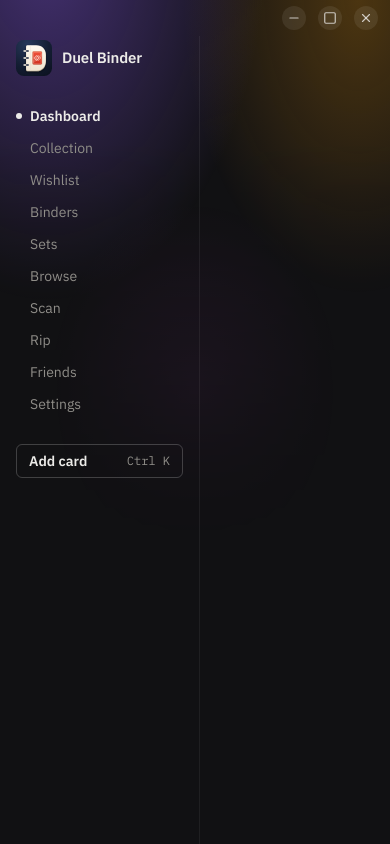
Test: AppShell › Ctrl+K and the Add card button open the add flow
The width and height of the screenshot is (390, 844).
Expected: the navigation bar named "Main" is shown, [16,100,183,420]
Press k
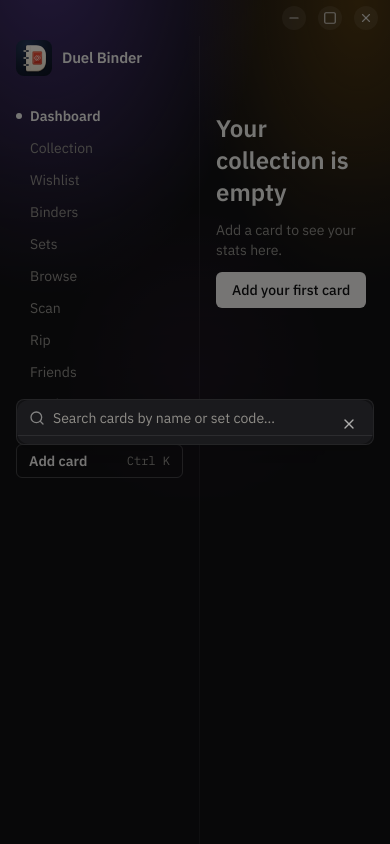
Now the dropdown with placeholder "Search cards by name or set code…" is shown, box [53,400,361,438]
Press Escape
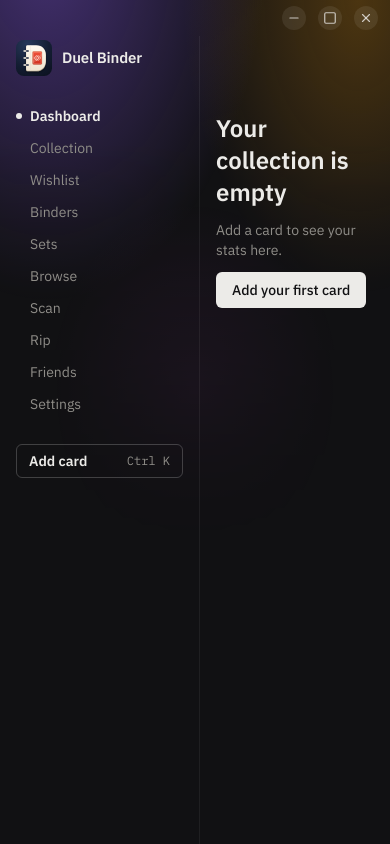
Now the dialog is gone
Click the button "Add card Ctrl K" at (100, 461), box [16,444,183,478]
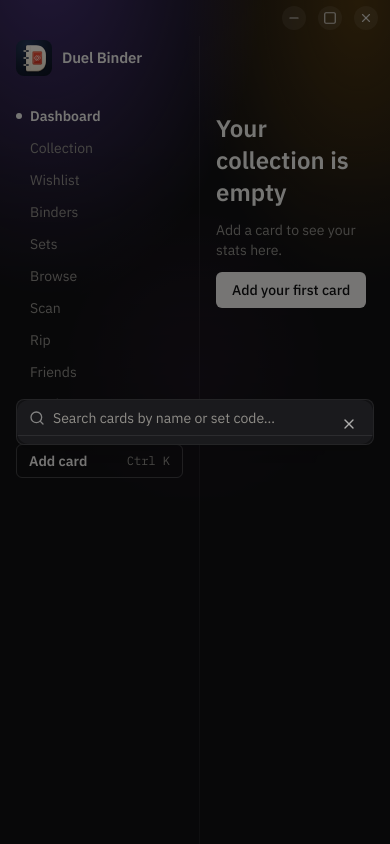
Now the dialog is shown, box [16,399,374,445]
